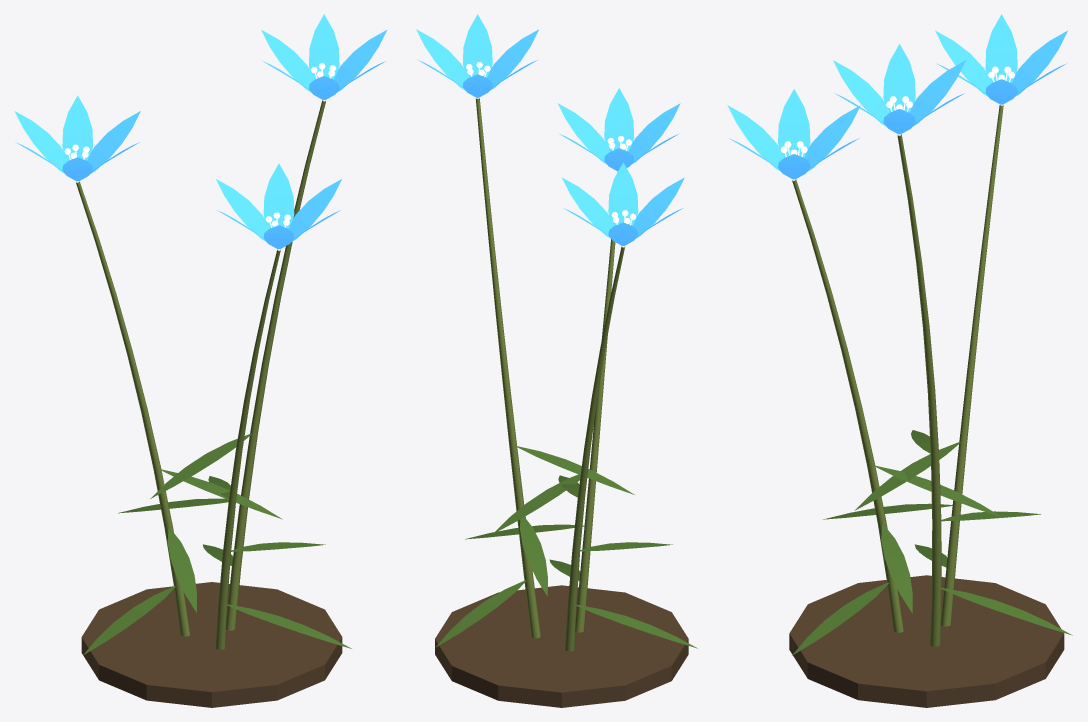
The model's file is splitterlilie.glb.
The picture shows the model from 3 angles, left to right: view 1: azimuth 30°, elevation 25°; view 2: azimuth 150°, elevation 25°; view 3: azimuth 270°, elevation 25°; orthographic projection. The views are drawn at different scales.
Parts seen in each view (by area): view 1: splitterlilie; view 2: splitterlilie; view 3: splitterlilie.
Part boxes in pixels (bbox=[...]): splitterlilie: bbox=[14, 14, 386, 707]; splitterlilie: bbox=[416, 14, 697, 707]; splitterlilie: bbox=[727, 14, 1072, 707].
Size of the model in its own units: 0.4312 by 0.7526 by 0.3779.
